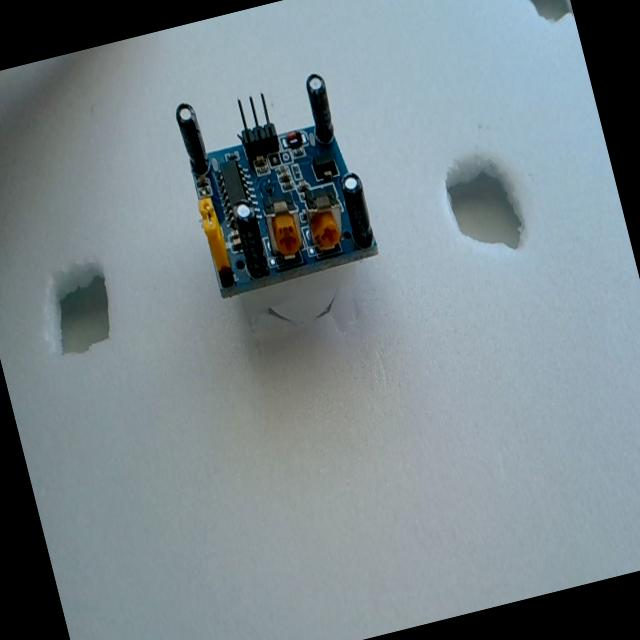Electrolytic capacitor: (231, 199, 271, 279), (338, 170, 377, 250), (173, 100, 212, 178), (301, 70, 338, 146)
IC: (208, 153, 264, 251)
pinheader: (230, 91, 281, 162)
